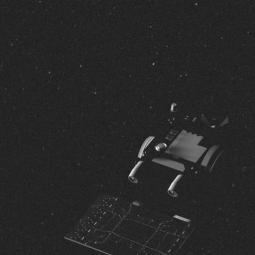proba_3_csc: (58, 110, 244, 255)
